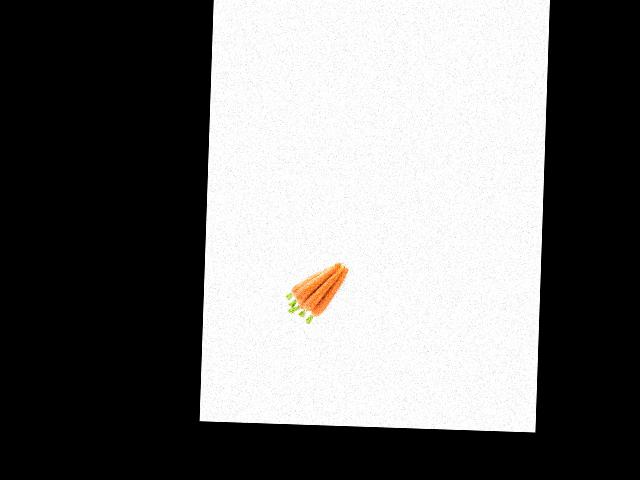carrot: (311, 267, 353, 321)
